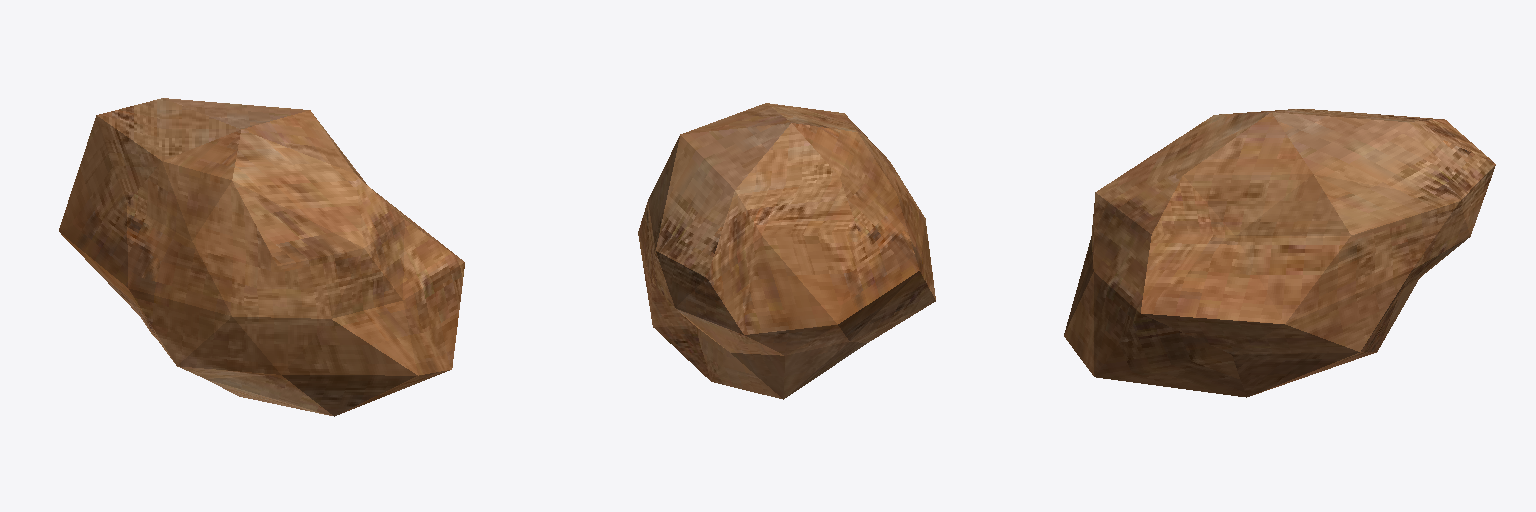
3 views of the same model, side by side, from view 1: azimuth 30°, elevation 25°; view 2: azimuth 150°, elevation 25°; view 3: azimuth 270°, elevation 25° (orthographic).
Parts seen in each view (by area): view 1: Icosphere; view 2: Icosphere; view 3: Icosphere.
Boxes of the visible parts, <box> form: Icosphere: <box>59,98,464,416</box>; Icosphere: <box>638,103,935,399</box>; Icosphere: <box>1064,109,1495,397</box>.
Bounding box in the file's own units: 115 × 105 × 154.
Materials: 1 (1 with a texture image).